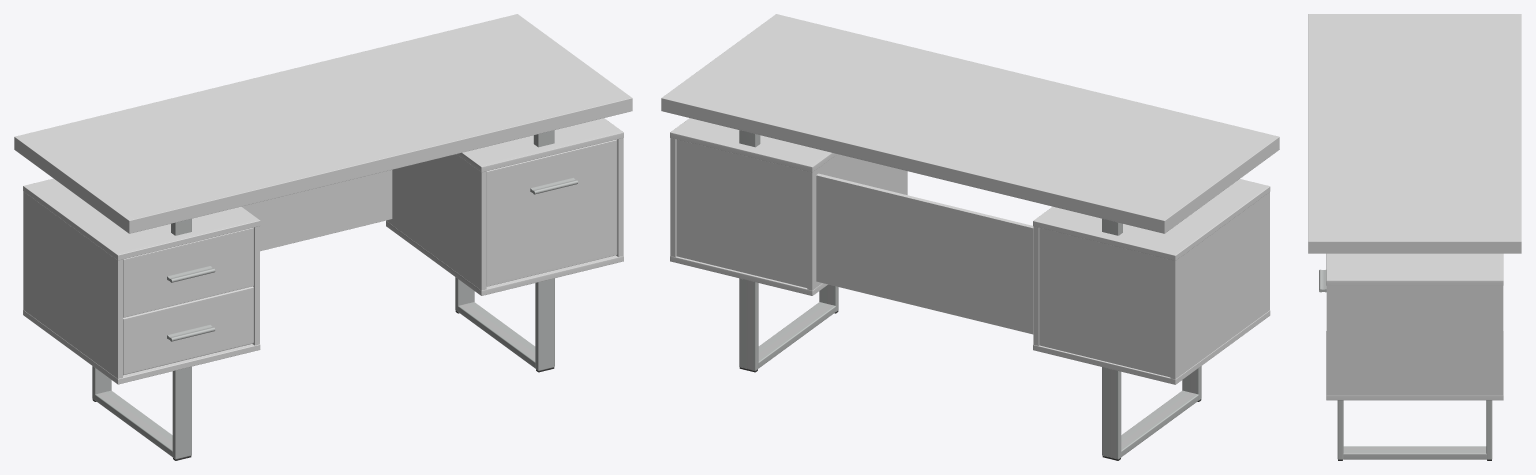
File: abo-B07TQ8KH1V.glb
3 renders of one model, left to right at view 1: azimuth 30°, elevation 25°; view 2: azimuth 150°, elevation 25°; view 3: azimuth 270°, elevation 25°, orthographic. The views are drawn at different scales.
Size of the model in its own units: 1.53 by 0.773 by 0.603.
1 material, 1 textured.
